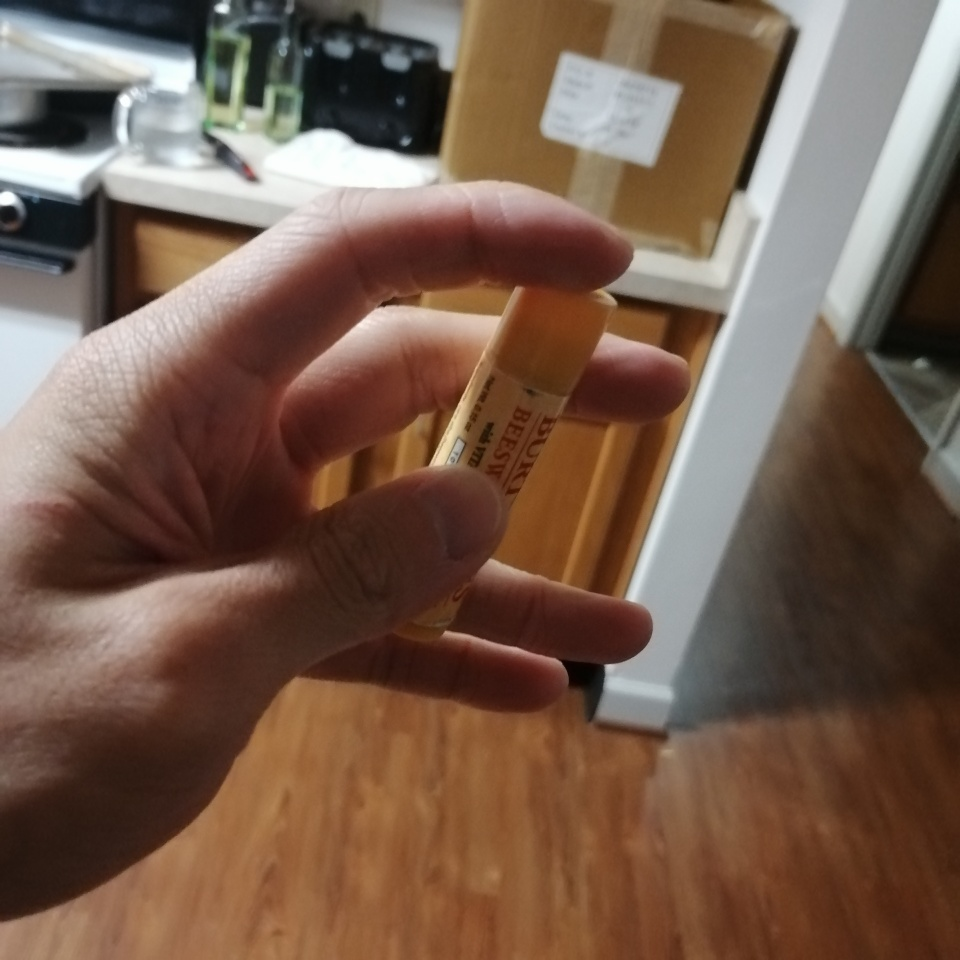chapstick: (386, 285, 619, 641)
